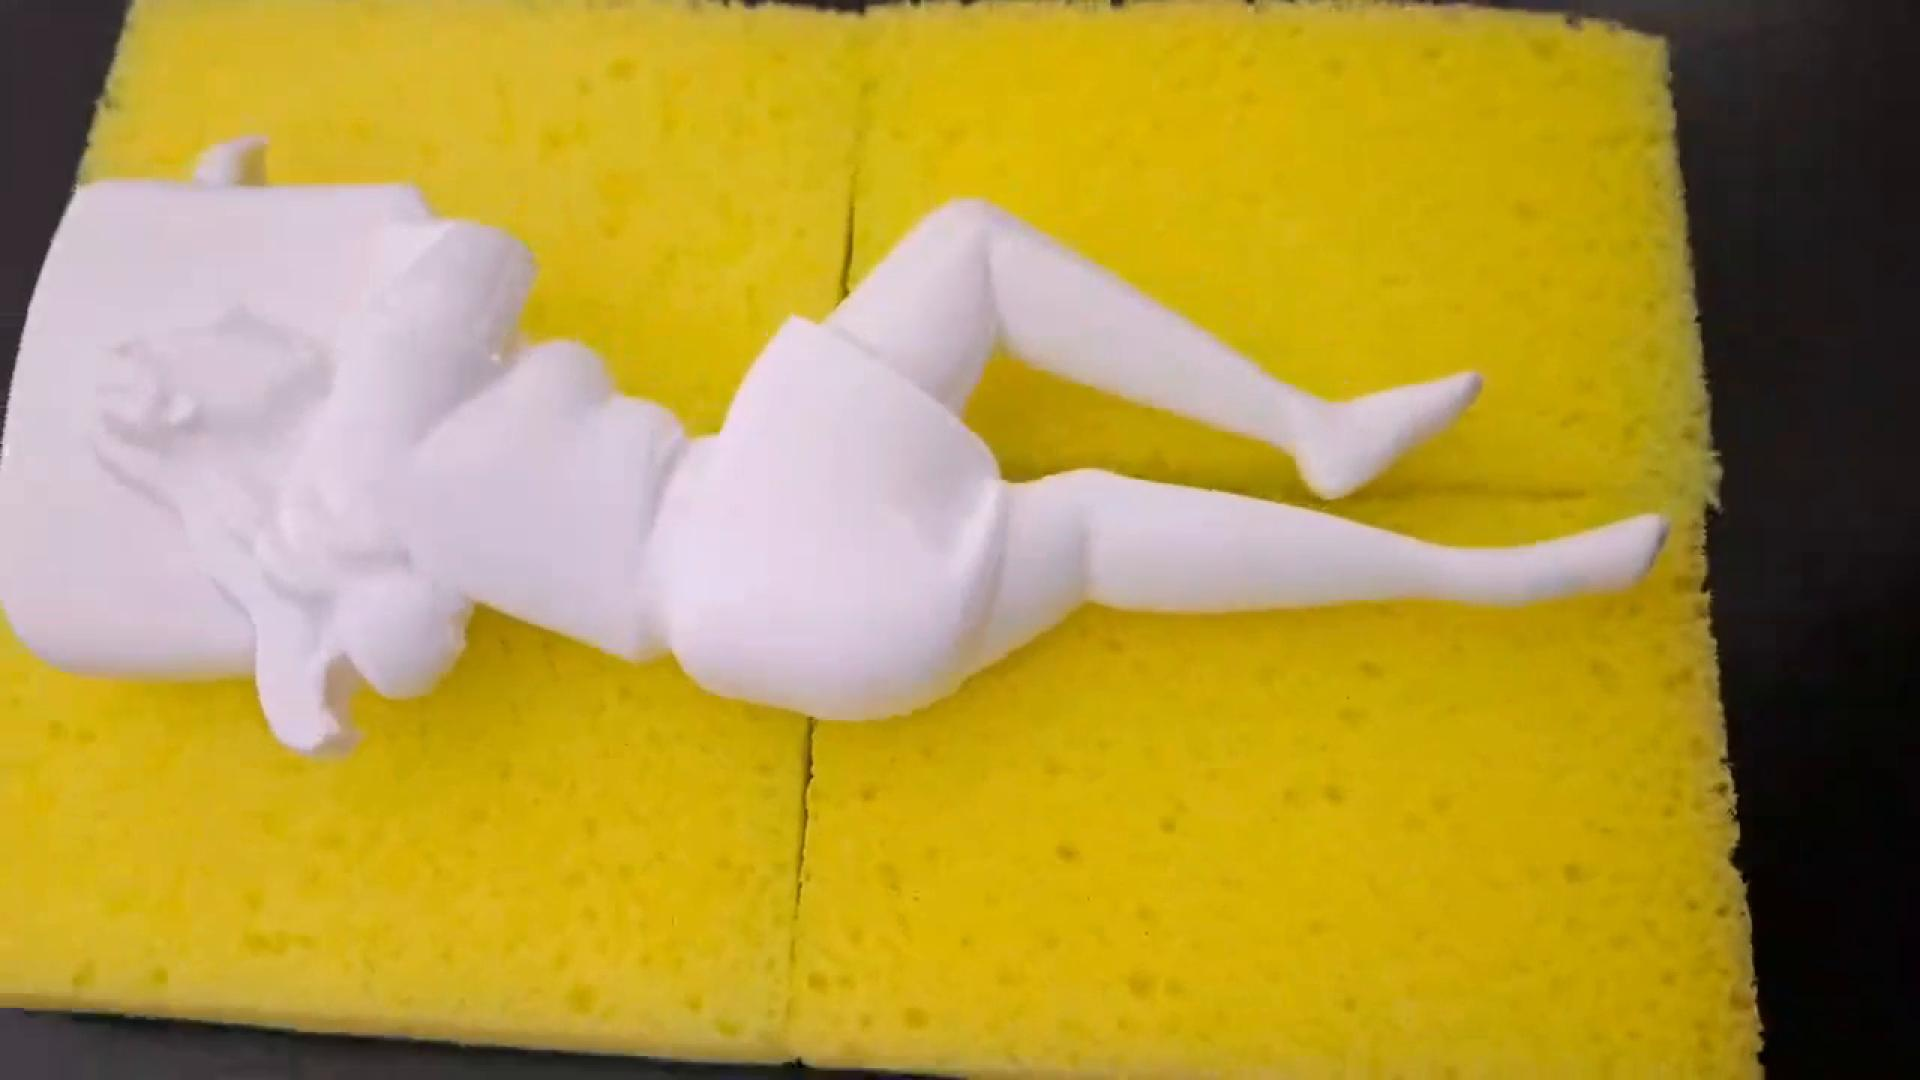Good-style: (0, 131, 1673, 786)
